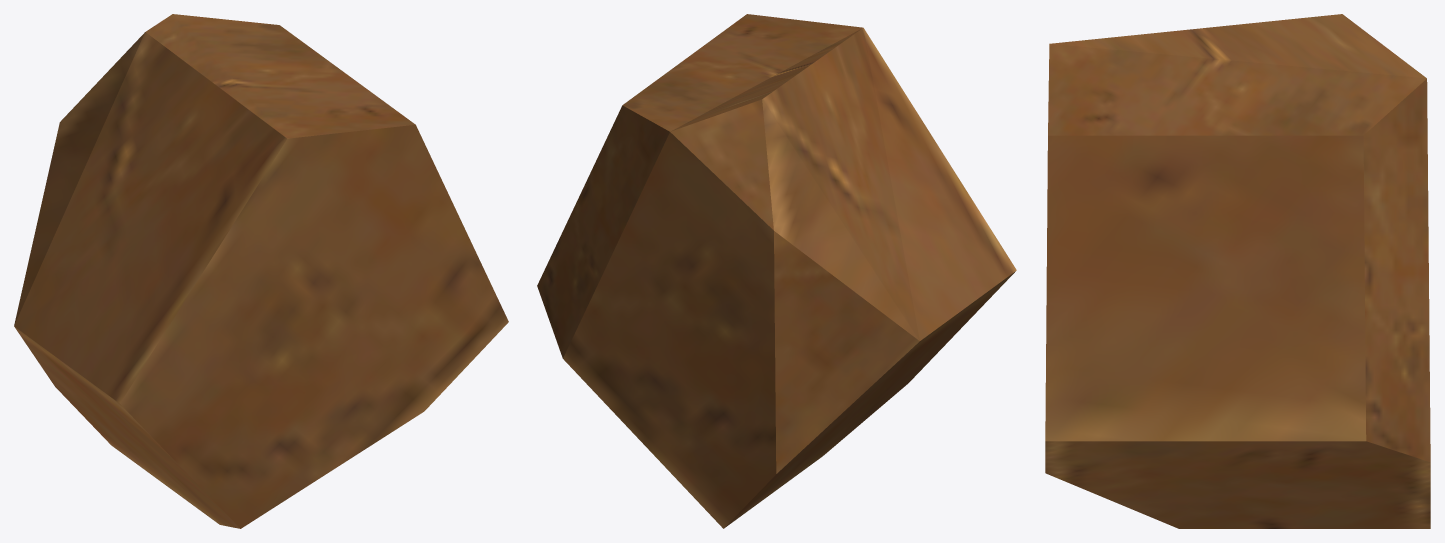
Rendered from shakian_object_dimension_brokenprop01_01.FBX.
The picture shows the model from 3 angles, left to right: view 1: azimuth 30°, elevation 25°; view 2: azimuth 150°, elevation 25°; view 3: azimuth 270°, elevation 25°; orthographic projection. The views are drawn at different scales.
Visible parts, largest first — view 1: shakian_object_dimension_brokenprop01_01; view 2: shakian_object_dimension_brokenprop01_01; view 3: shakian_object_dimension_brokenprop01_01.
Part boxes in pixels (x1,y1,x2,y2): shakian_object_dimension_brokenprop01_01: (14,14,508,528); shakian_object_dimension_brokenprop01_01: (537,14,1016,528); shakian_object_dimension_brokenprop01_01: (1045,14,1430,528).
Bounding box in the file's own units: 1.68 × 1.84 × 1.25.
